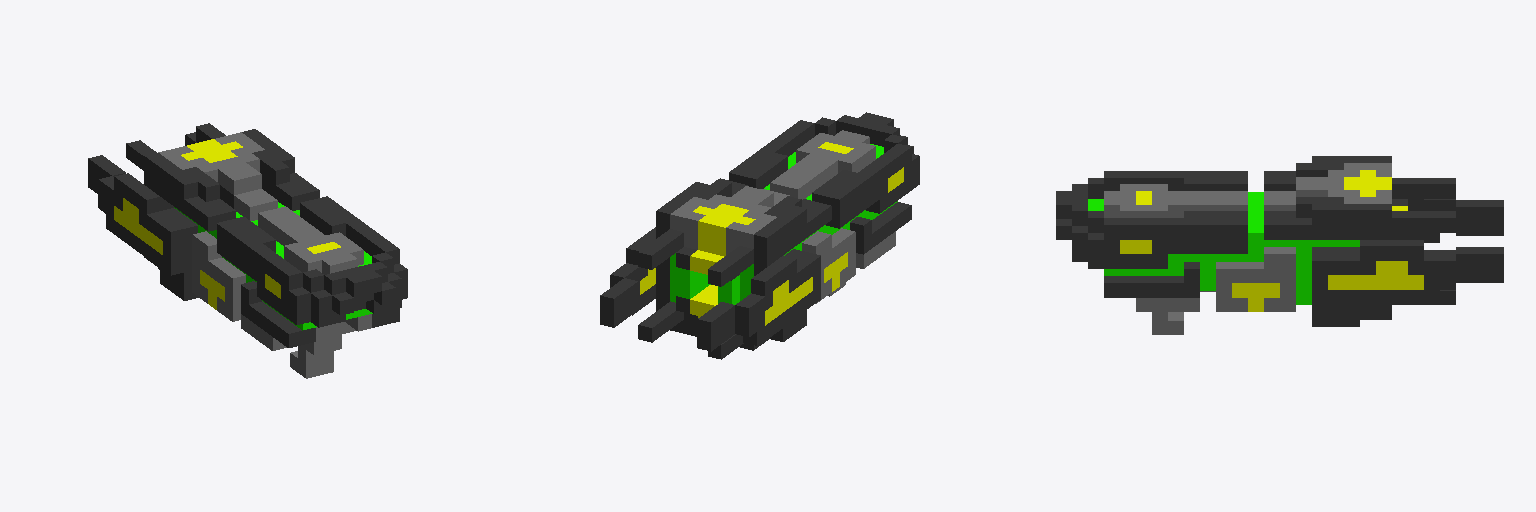
3 views of the same model, side by side, from view 1: azimuth 30°, elevation 25°; view 2: azimuth 150°, elevation 25°; view 3: azimuth 270°, elevation 25° (orthographic).
Visible parts, largest first — view 1: object 1; view 2: object 1; view 3: object 1.
Part boxes in pixels (x1,y1,x2,y2): object 1: (88, 123, 407, 378); object 1: (600, 112, 919, 359); object 1: (1056, 156, 1503, 334).
Size of the model in its own units: 1 by 1 by 2.8.
1 materials, 1 textured.